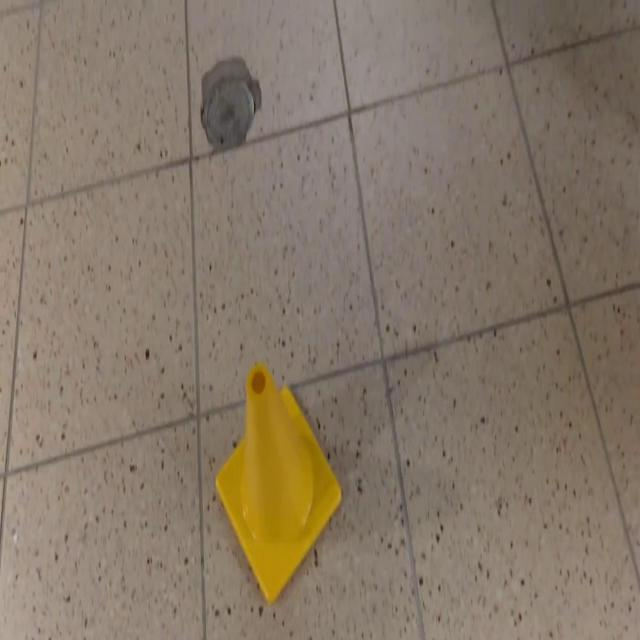frc_cone: (215, 362, 344, 604)
